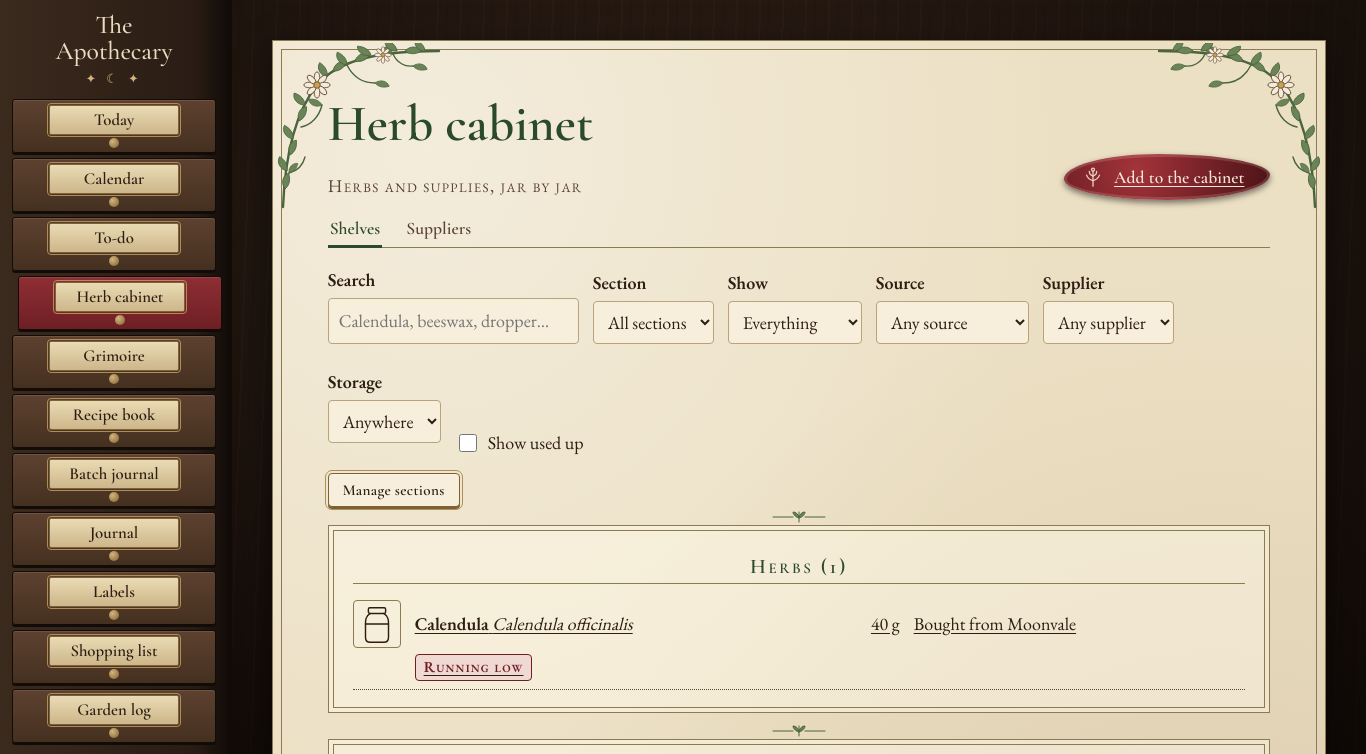
moves items to another section before deleting one
This screenshot has width=1366, height=754.
Expected: the element "Herbs" is shown, [328,525,1270,713]
Click the button "Manage sections" at (394, 490), box [328,473,460,507]
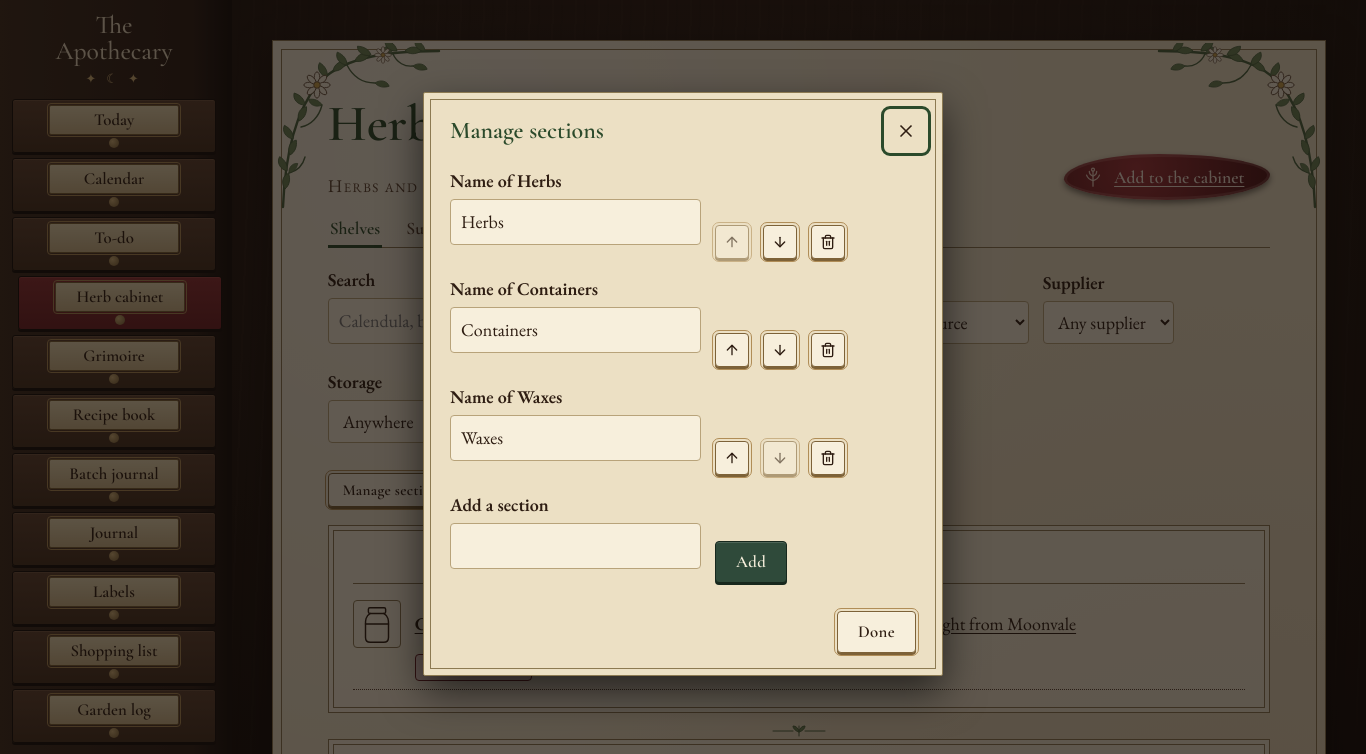
Click the button named "Delete Waxes" at (828, 458), box [811,441,845,475]
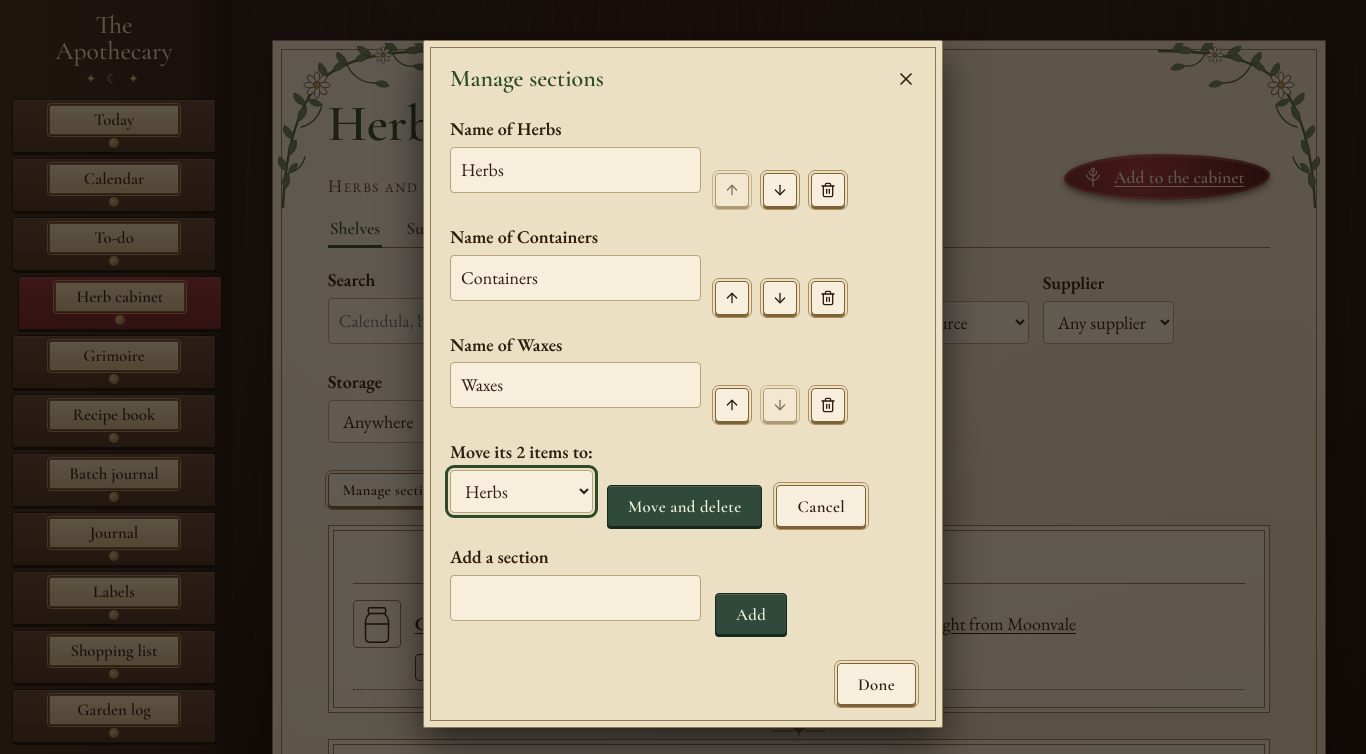
Select "Herbs" in the dropdown labelled "Move its 2 items to:" at (522, 492), box [450,470,593,513]
Click the button "Move and delete" at (685, 506), box [607,485,762,527]
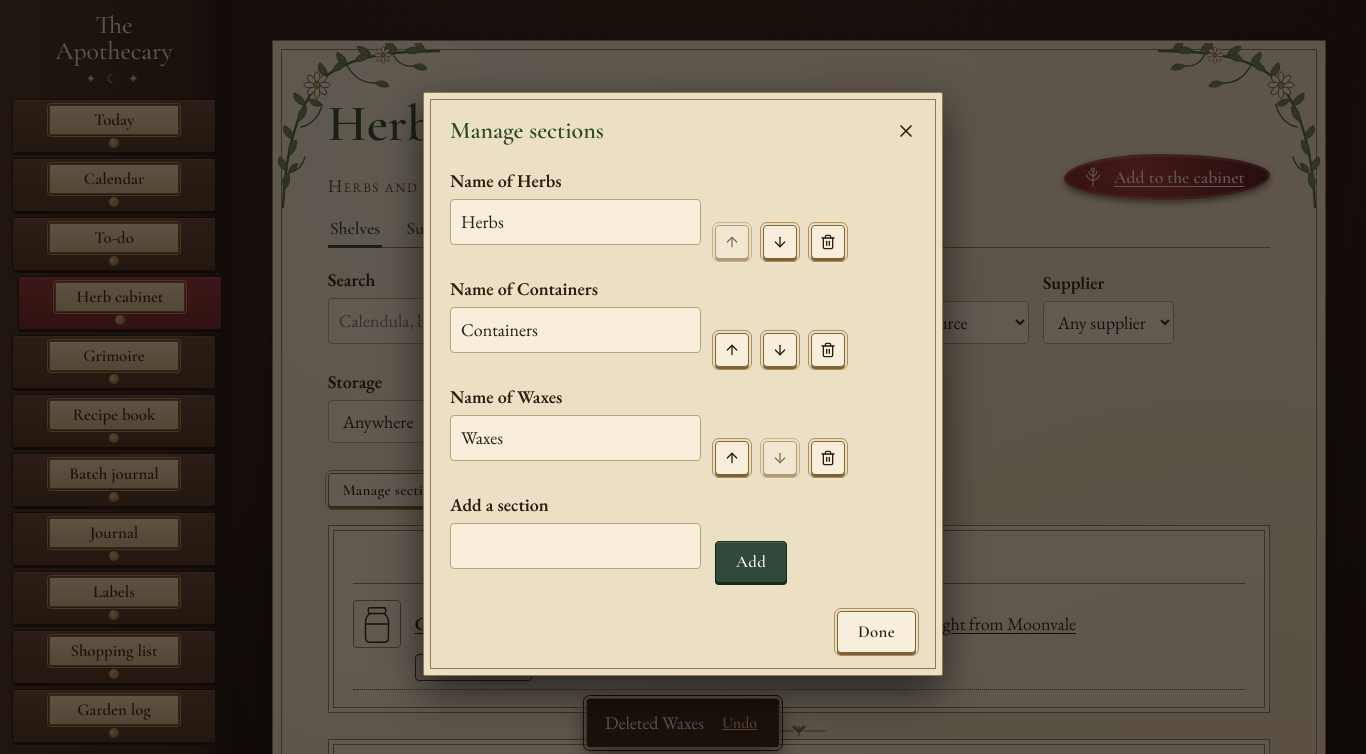
Expected: the text "Deleted Waxes" is shown, [605,709,704,737]
